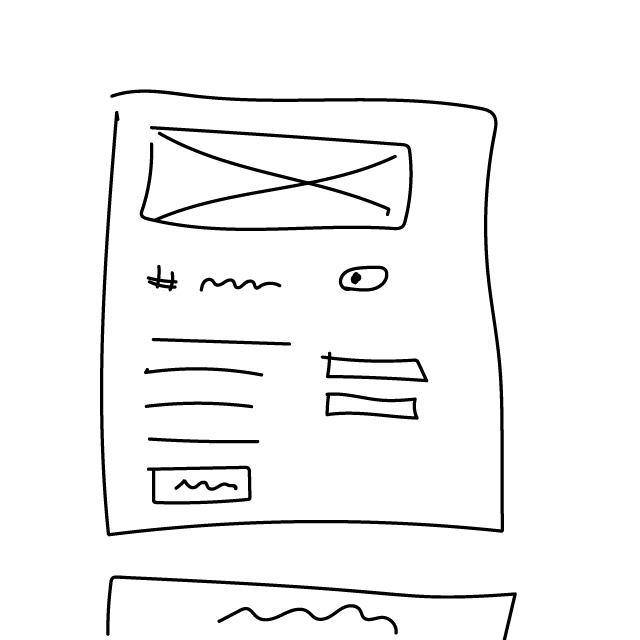button: (144, 462, 260, 512)
checkbox: (338, 265, 393, 294)
container: (88, 78, 517, 548)
footer: (98, 567, 532, 640)
frame: (137, 120, 420, 240)
heading: (148, 263, 287, 304)
input: (318, 349, 431, 386), (325, 390, 423, 425)
text: (141, 335, 295, 452)
